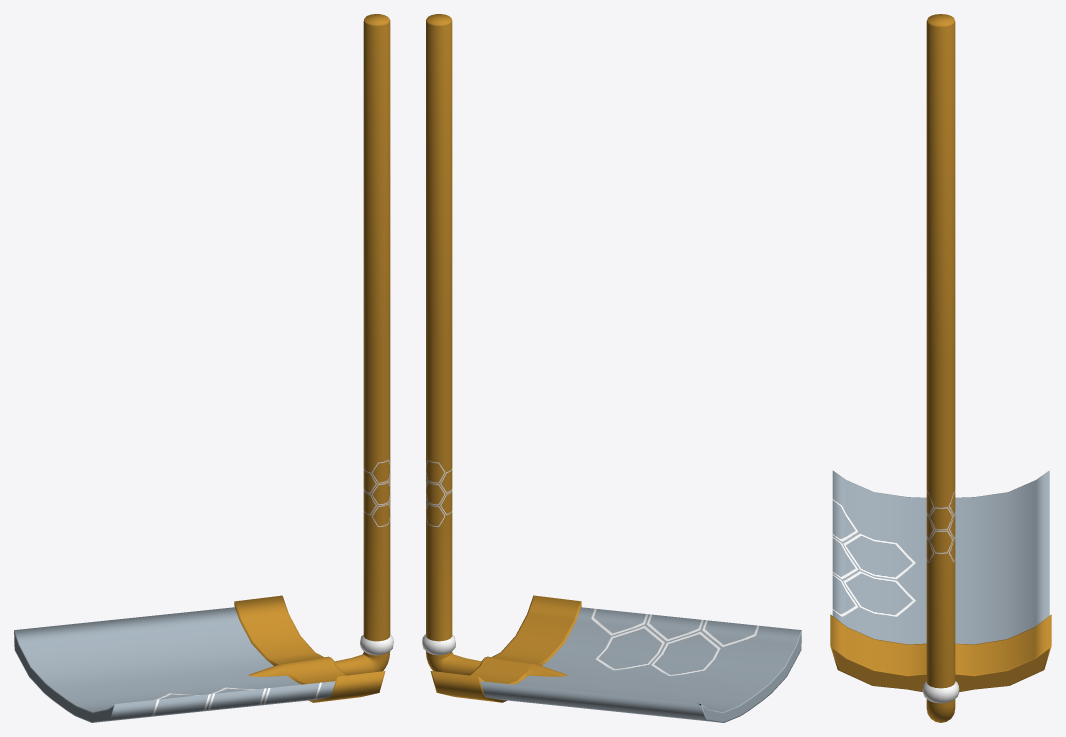
File: Prop_hoe.fbx
3 views of the same model, side by side, from view 1: azimuth 30°, elevation 25°; view 2: azimuth 150°, elevation 25°; view 3: azimuth 270°, elevation 25° (orthographic). The views are drawn at different scales.
Parts seen in each view (by area): view 1: AZADA PALO, AZADA HIERRO; view 2: AZADA PALO, AZADA HIERRO; view 3: AZADA PALO, AZADA HIERRO.
Part boxes in pixels (<box>): AZADA PALO: <box>234,14,393,702</box>; AZADA HIERRO: <box>14,607,335,722</box>; AZADA PALO: <box>422,14,581,702</box>; AZADA HIERRO: <box>480,607,801,722</box>; AZADA PALO: <box>830,14,1051,722</box>; AZADA HIERRO: <box>832,470,1049,644</box>.
Size of the model in its own units: 24.38 by 46.13 by 13.1.
